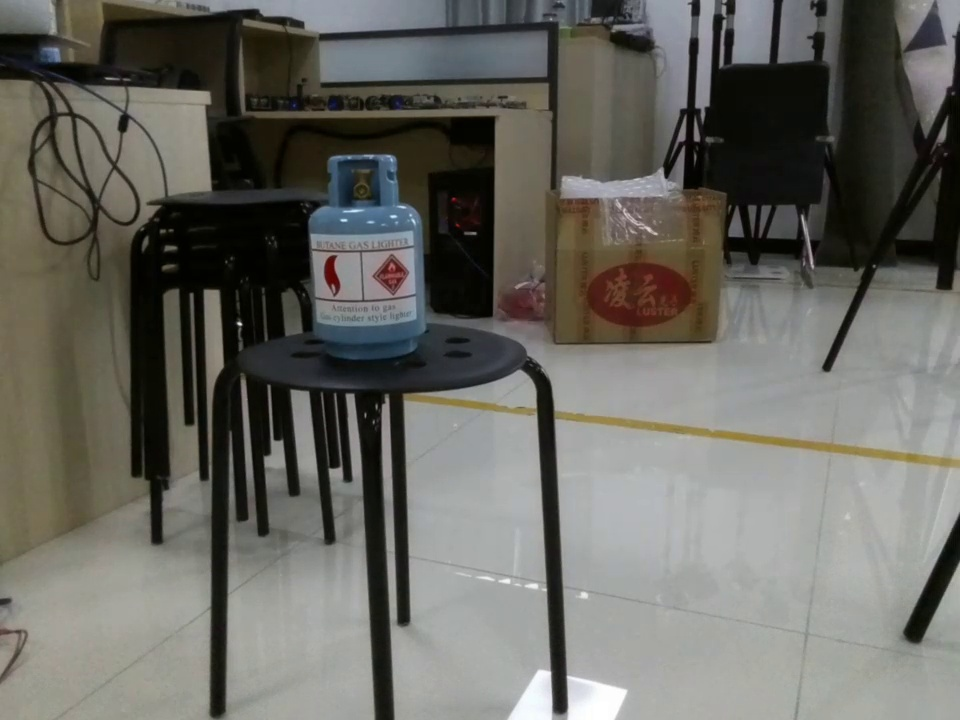gas tank: (301, 148, 441, 369)
